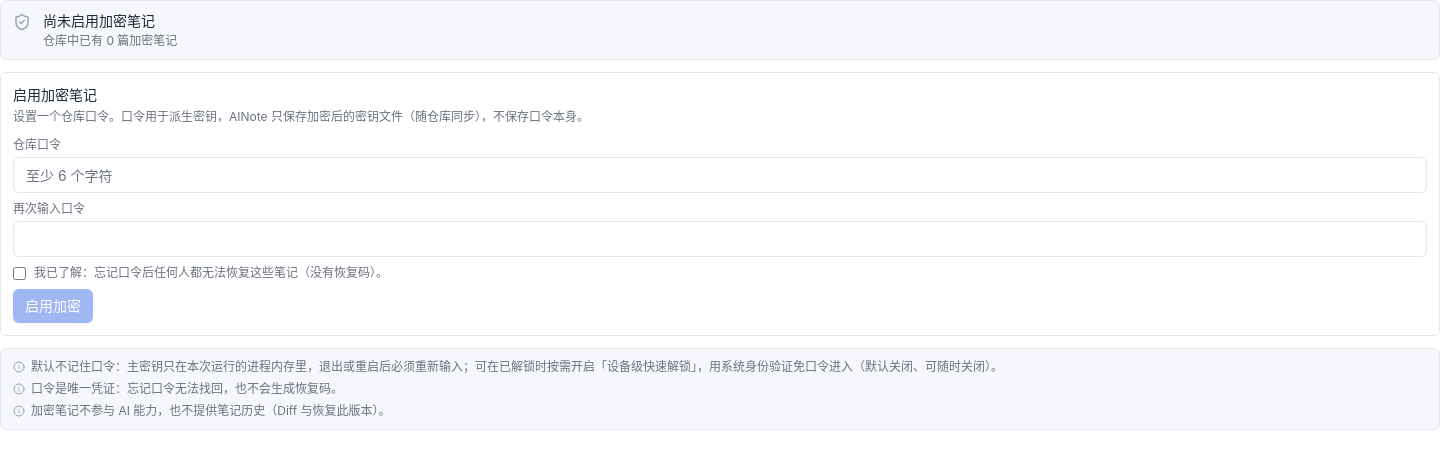
Test: VaultSettings › 未建库时展示建库表单，口令不达标则禁用提交
Expected: the text "启用加密笔记" is shown, x1=13 y1=86 x2=97 y2=103
Expected: the text "仓库中已有 0 篇加密笔记" is shown, x1=43 y1=33 x2=177 y2=49
Type "short" into the password field labelled "仓库口令".
click(720, 175); type("short")  # box x1=13 y1=157 x2=1427 y2=193
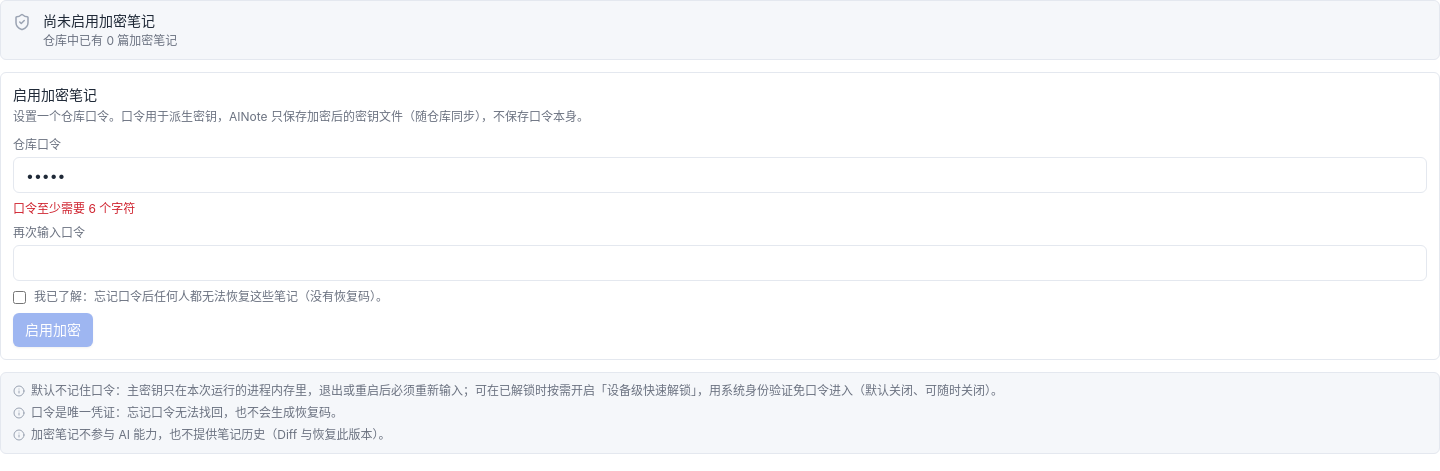
Expected: the button "启用加密" is disabled, x1=13 y1=313 x2=93 y2=347
Now the text "口令至少需要 6 个字符" is shown, box x1=13 y1=201 x2=135 y2=216
